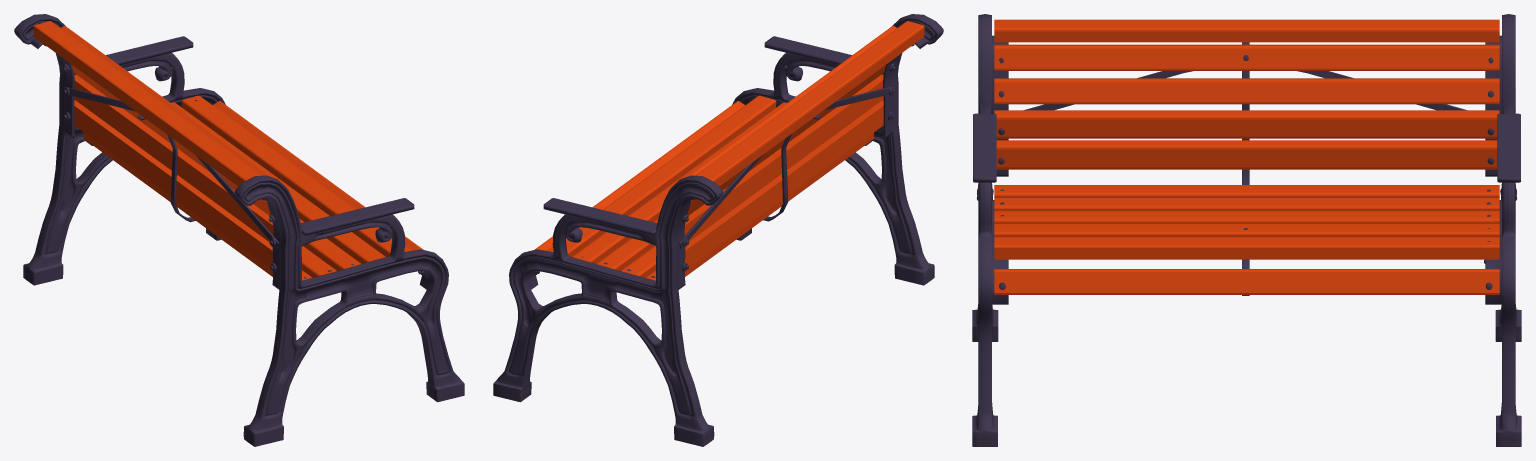
The model's file is WoodenBench.glb.
3 views of the same model, side by side, from view 1: azimuth 30°, elevation 25°; view 2: azimuth 150°, elevation 25°; view 3: azimuth 270°, elevation 25° (orthographic). The views are drawn at different scales.
Parts seen in each view (by area): view 1: Bench_Wood_Frame, Bench_Wood_Planks; view 2: Bench_Wood_Frame, Bench_Wood_Planks; view 3: Bench_Wood_Planks, Bench_Wood_Frame.
Part boxes in pixels (x1,y1,x2,y2): Bench_Wood_Frame: (14, 14, 464, 446); Bench_Wood_Planks: (33, 21, 423, 280); Bench_Wood_Frame: (493, 14, 943, 446); Bench_Wood_Planks: (534, 21, 924, 280); Bench_Wood_Planks: (994, 19, 1499, 294); Bench_Wood_Frame: (972, 14, 1521, 446).
Bounding box in the file's own units: 1.39 × 1.57 × 2.5.
